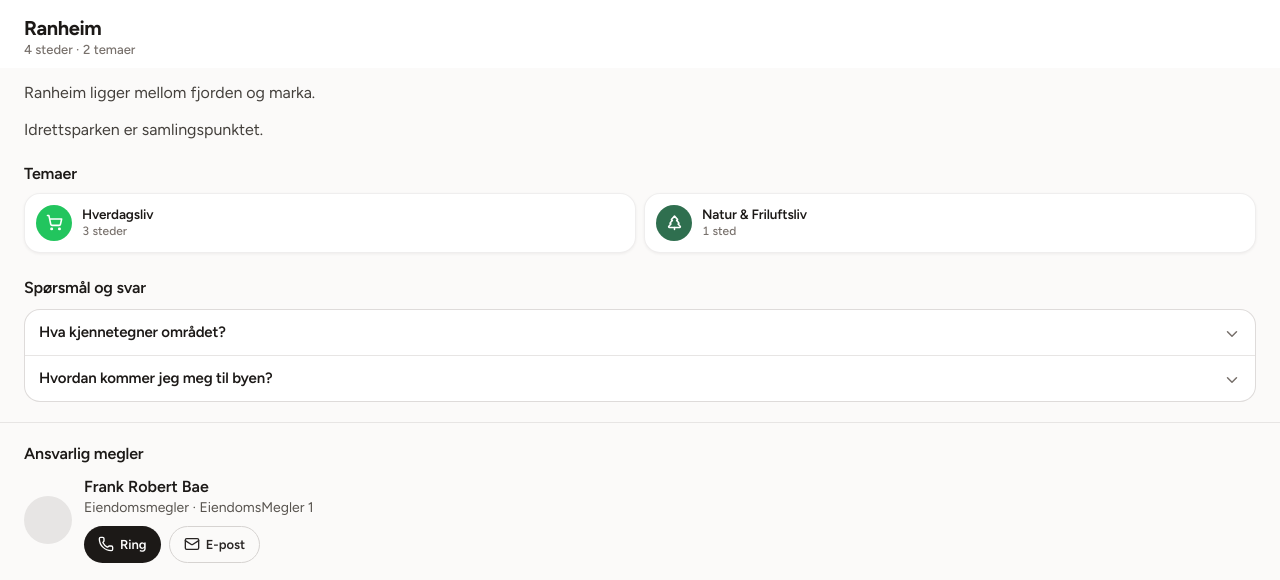
Test case: temarutenettet på områdestoppet (2026-09-05) › et trykk går inn i temaet, og først DA kommer raden — med temaet markert
The width and height of the screenshot is (1280, 580).
Click the text "Natur & Friluftsliv". click: (754, 214)
box: [702,206,807,222]
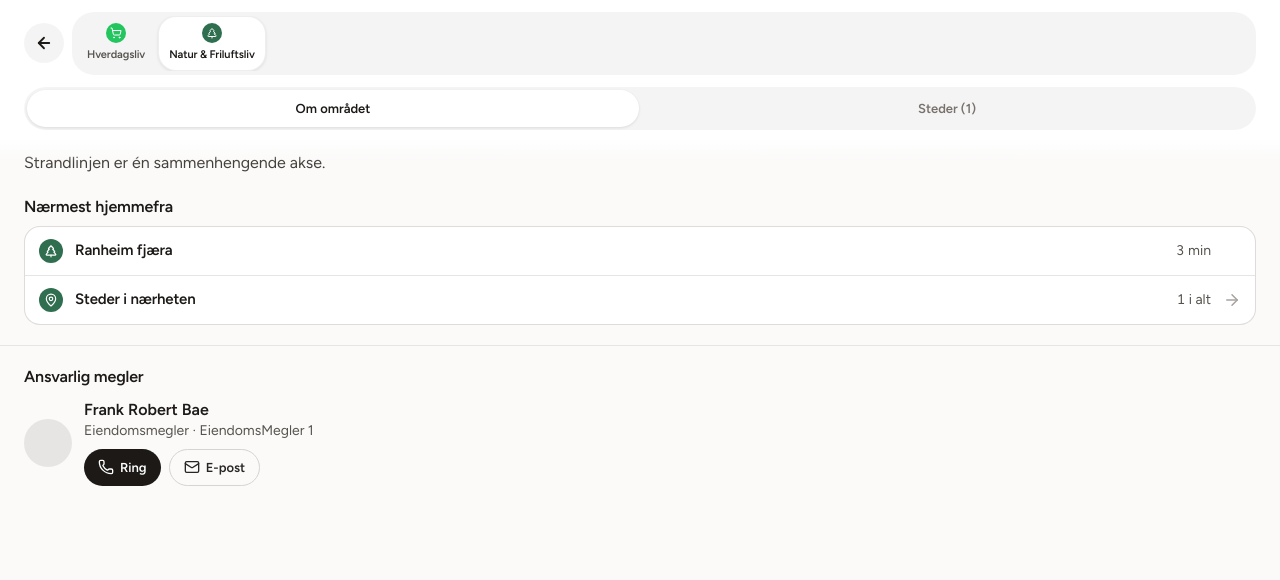
Expected: the element with test id "story-theme-grid" is gone
Expected: the tabs read "Hverdagsliv", "Natur & Friluftsliv", in this order, [76,16,156,70]; [158,16,266,70]
Expected: the element named "Svarform" is shown, [24,86,1256,130]
